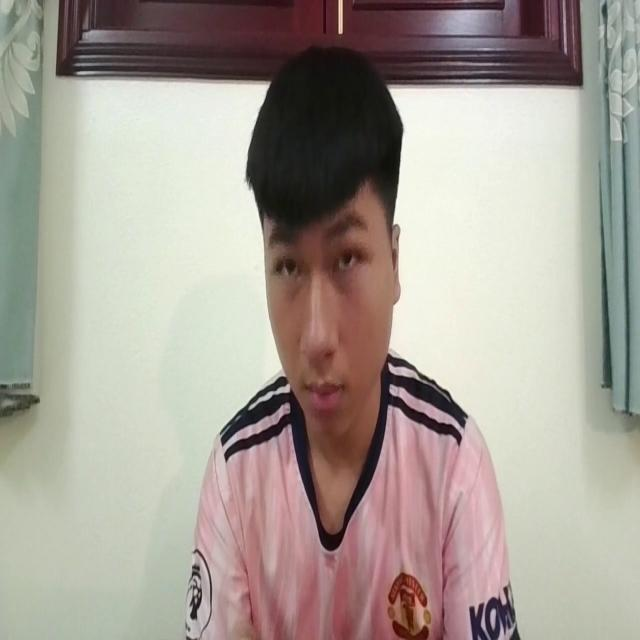student: (183, 43, 514, 640)
